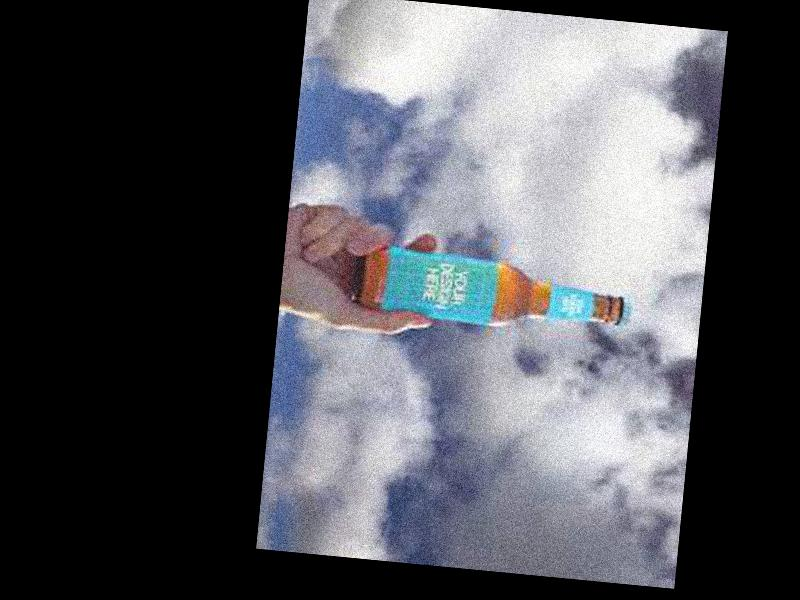Beer: (354, 250, 632, 339)
